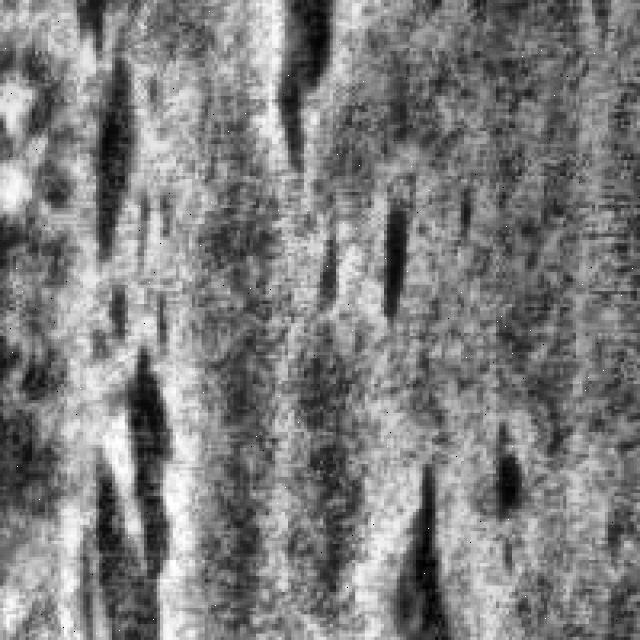Patches: (67, 188, 189, 630), (70, 0, 176, 285), (378, 448, 458, 637), (259, 0, 339, 186), (477, 406, 528, 564), (364, 195, 420, 320)
